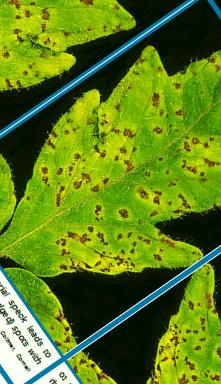Tomato leaf bacterial spot: (0, 3, 221, 352)
